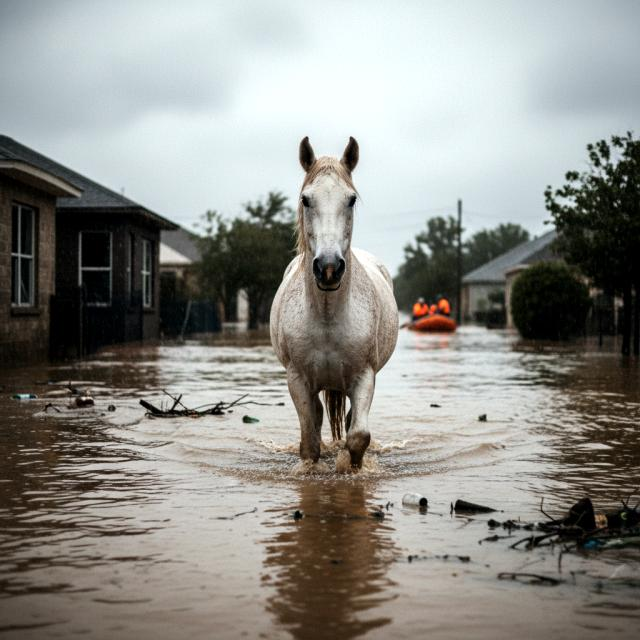horse: (264, 126, 406, 478)
rescuer: (408, 293, 430, 321), (434, 290, 454, 320)
